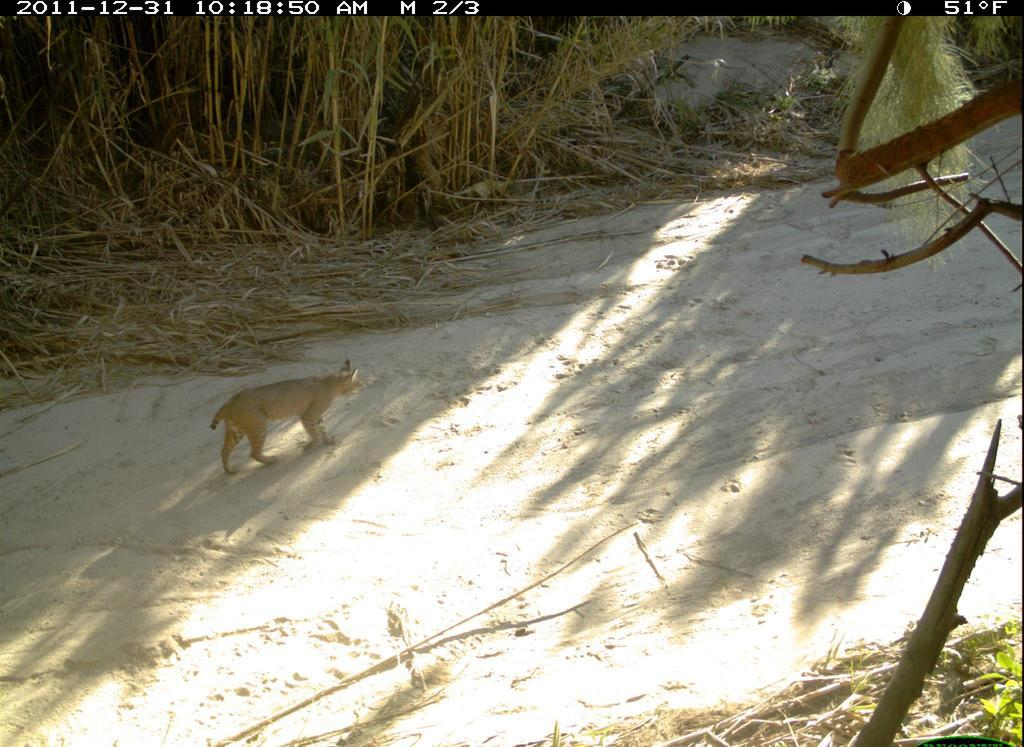bobcat: (199, 358, 369, 483)
